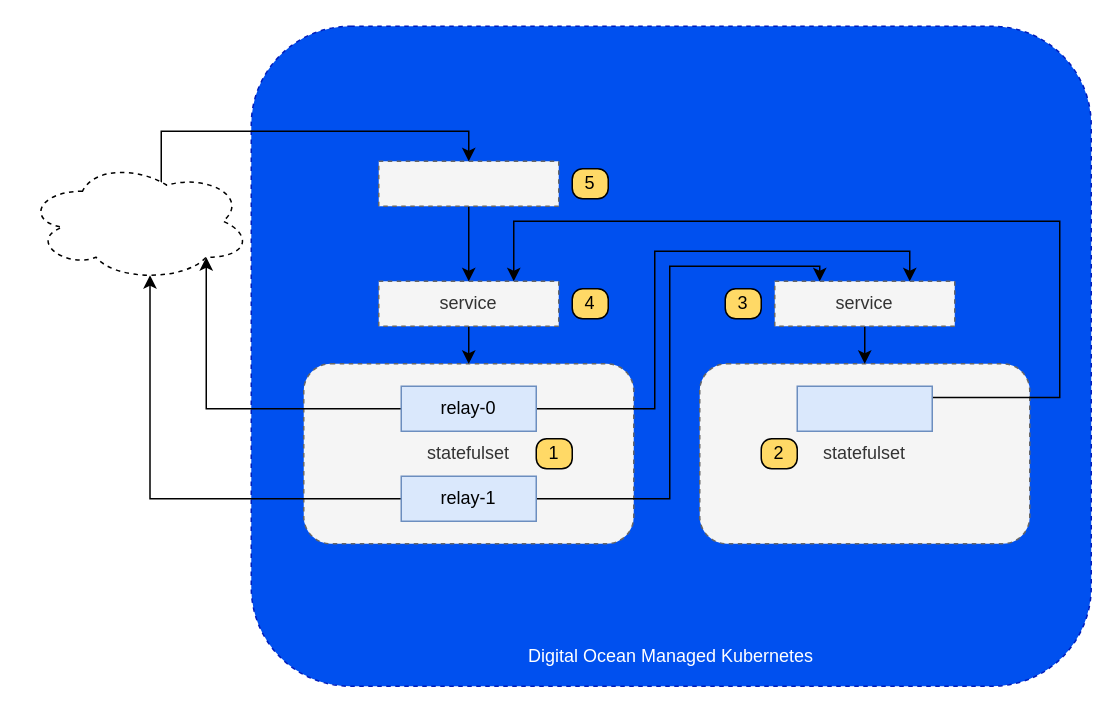
Image size: 1118x713. Some labels were removed from this diagram. The shapes that lost their labels are listed below. From the top down, each one's box as (x1, y1, x2, y2) in pixels, then its label:
(377, 160, 559, 206): loadbalancer
(25, 160, 251, 281): External Relays
(796, 385, 932, 431): producer-0
